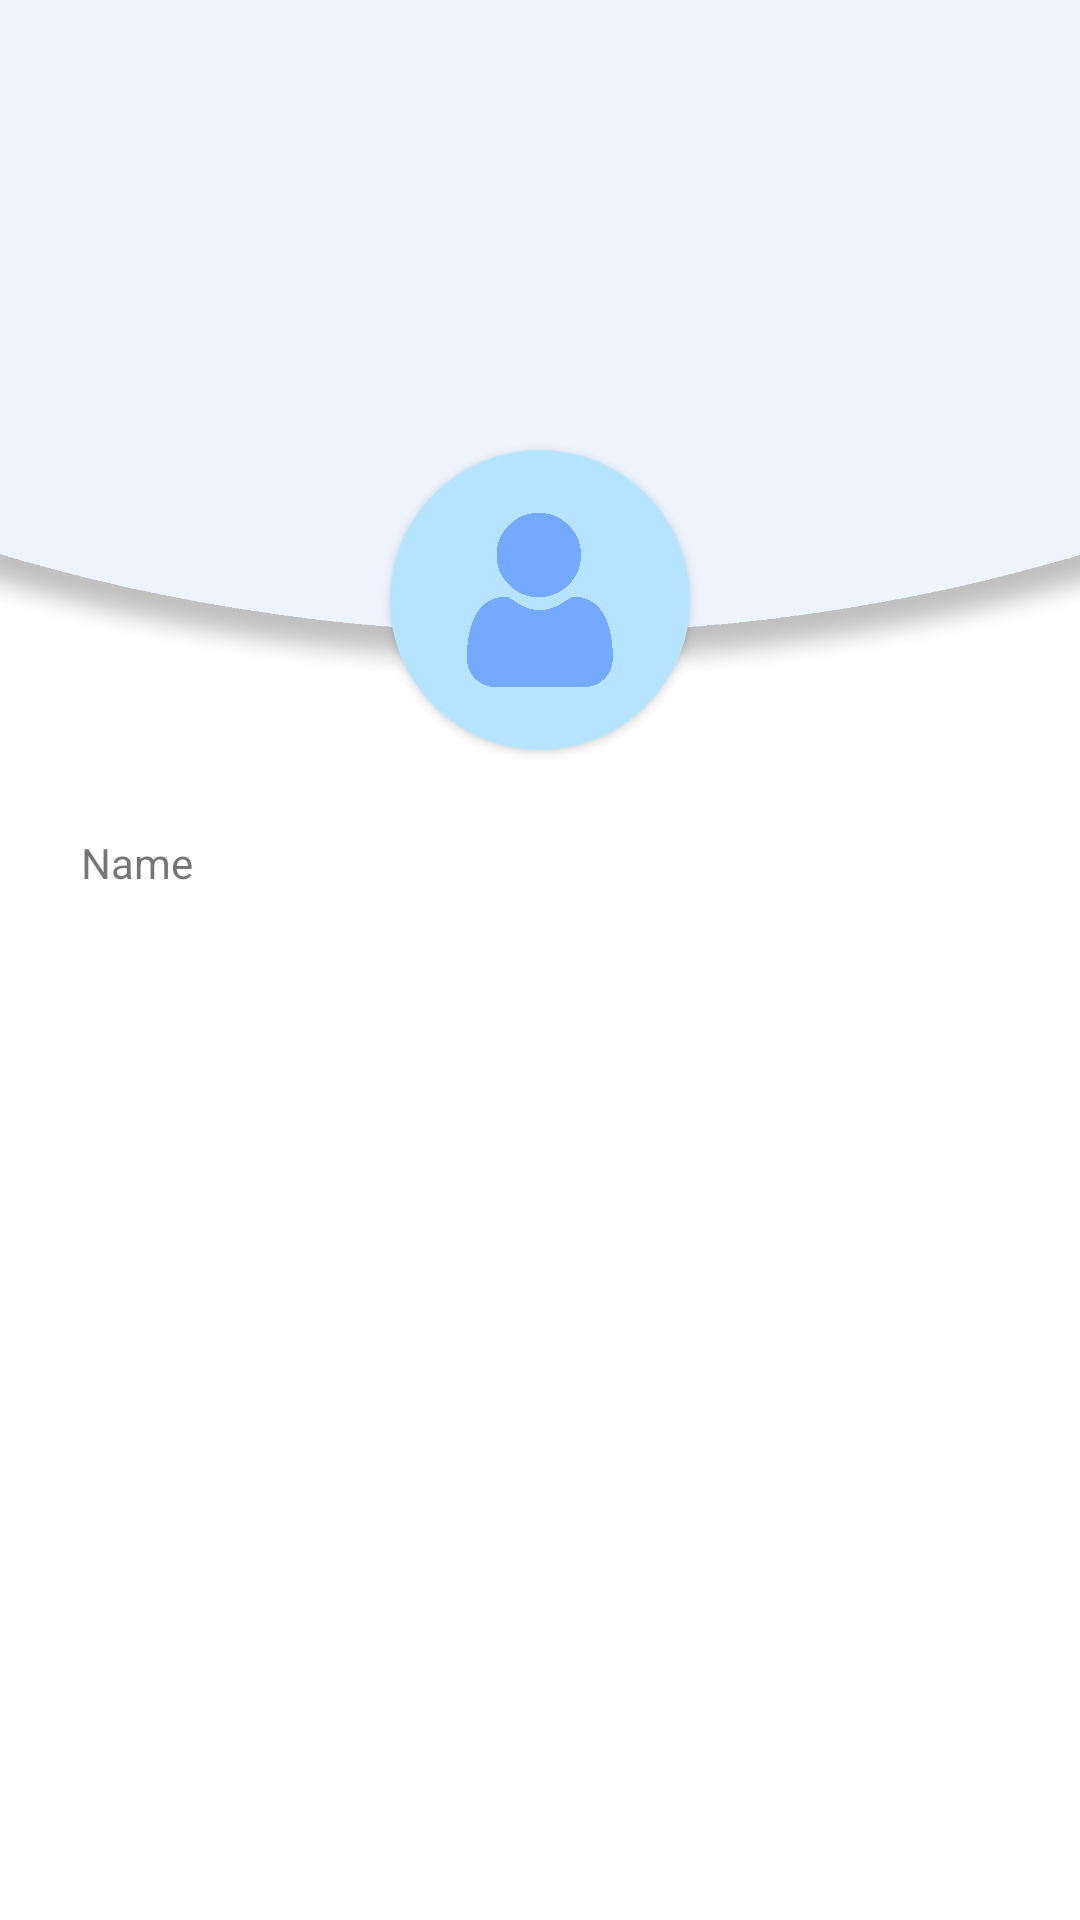

Icon click points for this 1080w x 1920h phone screenshot, format (x=x, y=y):
user: (x=540, y=600)
